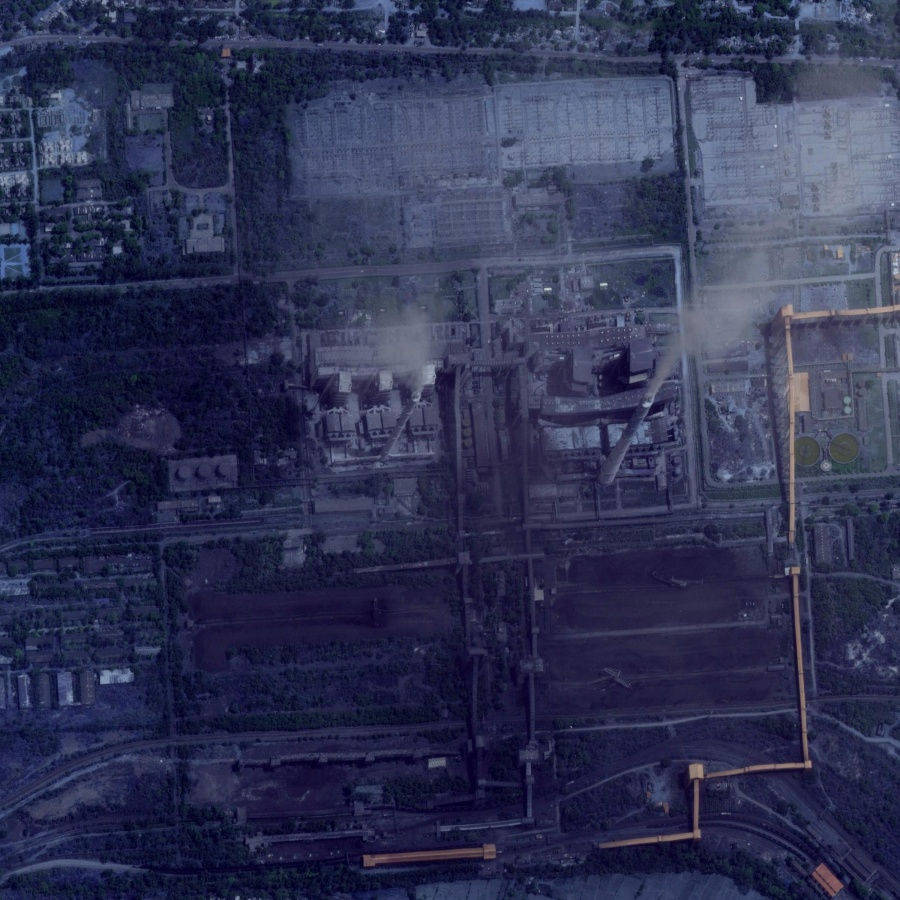PowerPlant: (159, 332, 792, 896)
